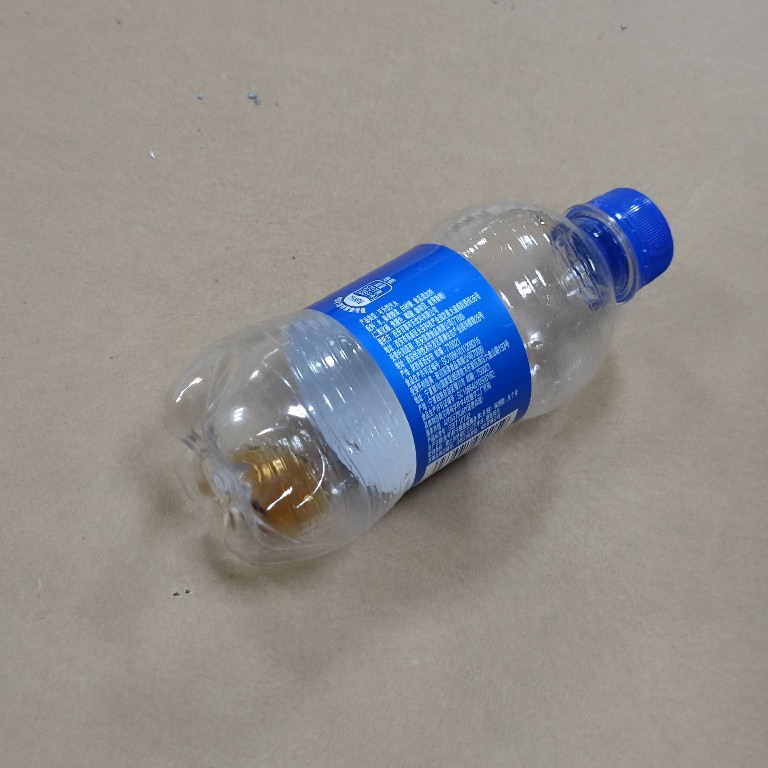bottle: (164, 179, 679, 573)
